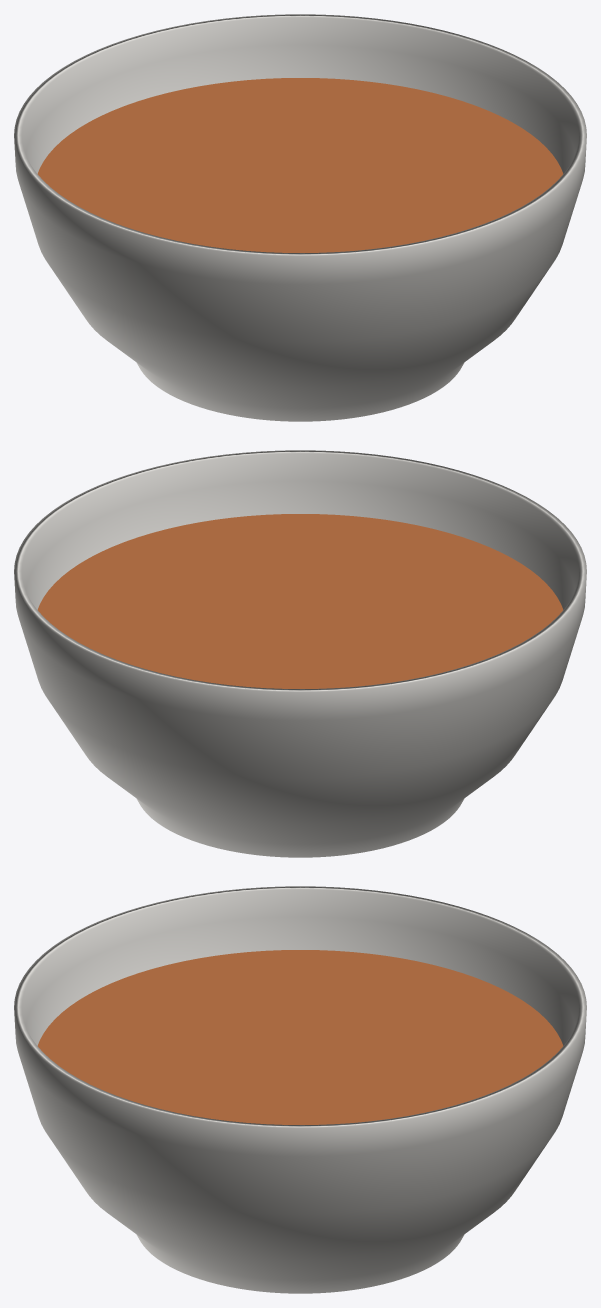
The model's file is tazon-caldo-18cm.glb.
3 views of the same model, one above another, from view 1: azimuth 30°, elevation 25°; view 2: azimuth 150°, elevation 25°; view 3: azimuth 270°, elevation 25° (orthographic).
Visible parts, largest first — view 1: Tazon, Caldo; view 2: Tazon, Caldo; view 3: Tazon, Caldo.
Boxes of the visible parts, bbox=[...] form: Tazon: bbox=[14, 14, 586, 421]; Caldo: bbox=[37, 78, 563, 252]; Tazon: bbox=[14, 450, 586, 857]; Caldo: bbox=[37, 514, 563, 688]; Tazon: bbox=[14, 886, 586, 1293]; Caldo: bbox=[37, 950, 563, 1124].
Size of the model in its own units: 0.18 by 0.075 by 0.18.
